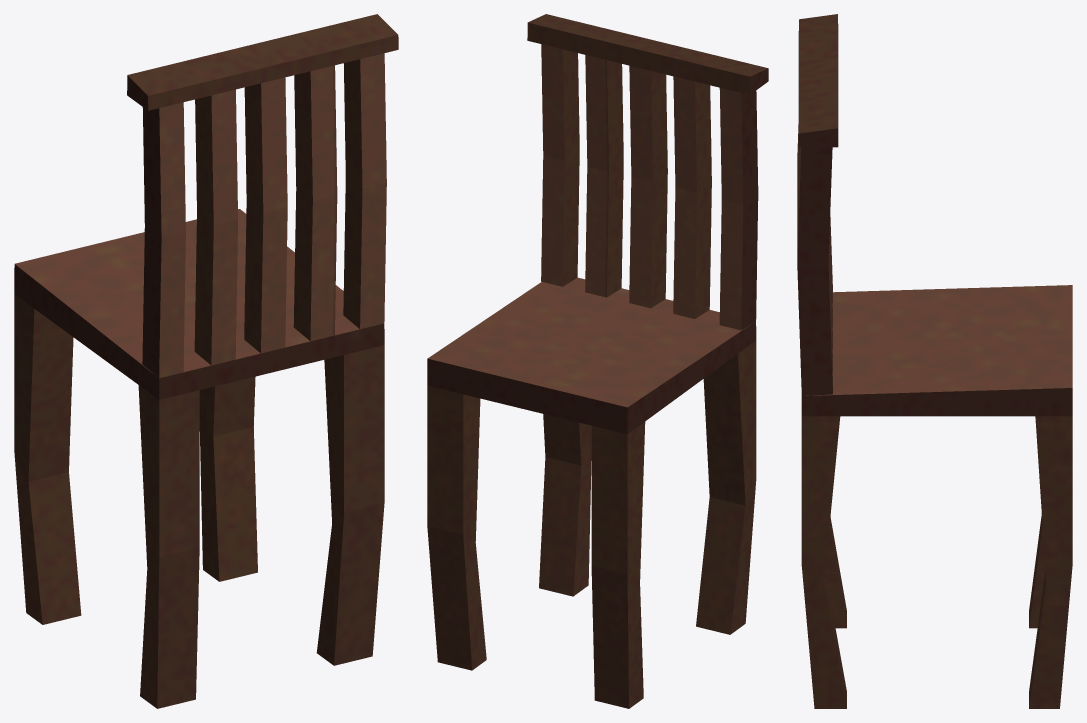
The model's file is chair.fbx.
The picture shows the model from 3 angles, left to right: view 1: azimuth 30°, elevation 25°; view 2: azimuth 150°, elevation 25°; view 3: azimuth 270°, elevation 25°; orthographic projection. The views are drawn at different scales.
Parts seen in each view (by area): view 1: Chair; view 2: Chair; view 3: Chair.
Boxes of the visible parts, box(x1,y1,x2,y2) form: Chair: box(14, 14, 398, 708); Chair: box(427, 14, 768, 708); Chair: box(797, 14, 1072, 708).
Size of the model in its own units: 0.505 by 0.5142 by 1.21.
1 material, 1 textured.
